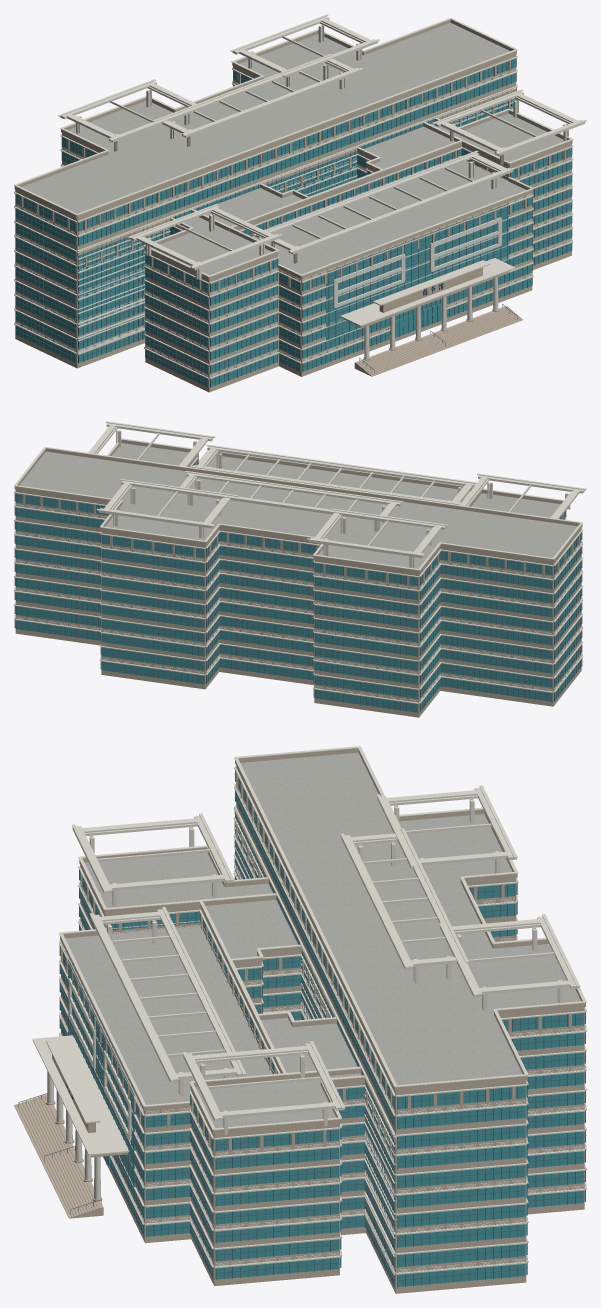
The model's file is library.glb.
The picture shows the model from 3 angles, top to bottom: view 1: azimuth 30°, elevation 25°; view 2: azimuth 150°, elevation 25°; view 3: azimuth 270°, elevation 25°; orthographic projection. The views are drawn at different scales.
Parts seen in each view (by area): view 1: landmark-library; view 2: landmark-library; view 3: landmark-library.
Part boxes in pixels (<box>): landmark-library: <box>14,14,586,392</box>; landmark-library: <box>14,421,586,717</box>; landmark-library: <box>14,746,586,1293</box>.
Bounding box in the file's own units: 130 × 40.5 × 92.28.
Materials: 6 (1 with a texture image).
